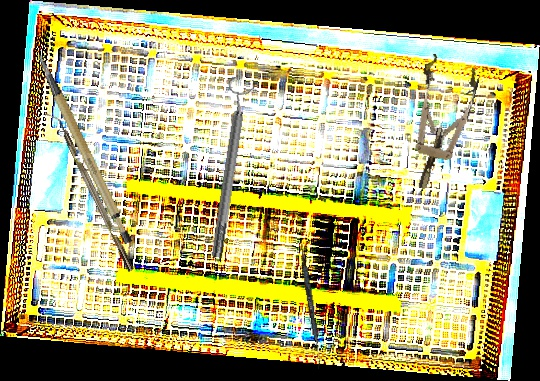Chopper: (44, 107, 135, 276)
Fixation Ring: (201, 75, 258, 260)
Scalpel Handle: (36, 43, 135, 253)
Spatula Surgical: (295, 238, 326, 369)
Speculum: (394, 52, 483, 196)
